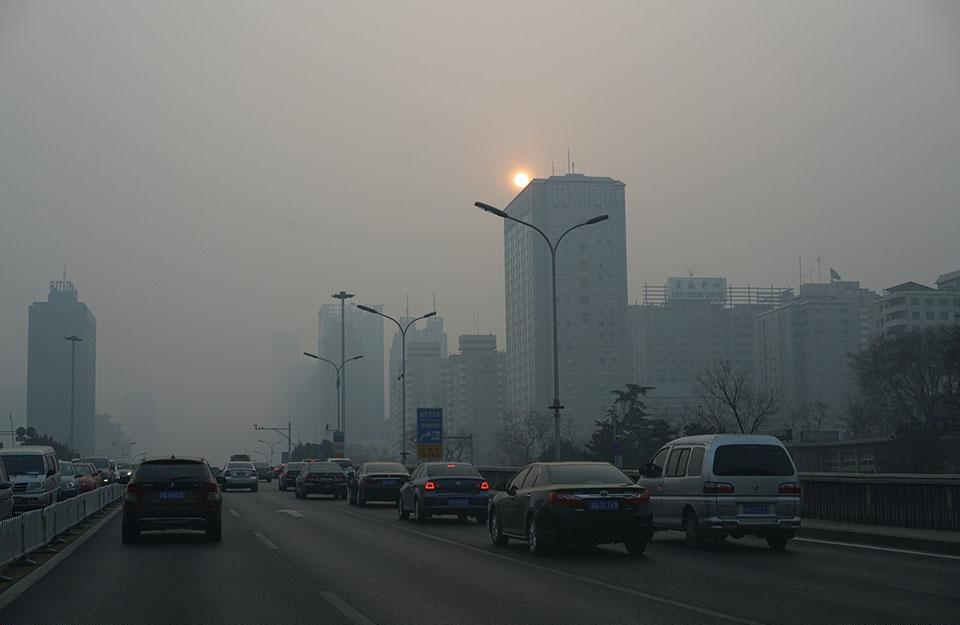car: (632, 432, 802, 551), (487, 460, 654, 553), (117, 453, 224, 541), (397, 461, 492, 527), (1, 445, 64, 515), (345, 461, 413, 506), (293, 460, 346, 499), (39, 460, 81, 502), (62, 462, 100, 499), (221, 461, 259, 495), (81, 454, 116, 487), (277, 461, 312, 493), (107, 461, 133, 483), (248, 462, 273, 483)
